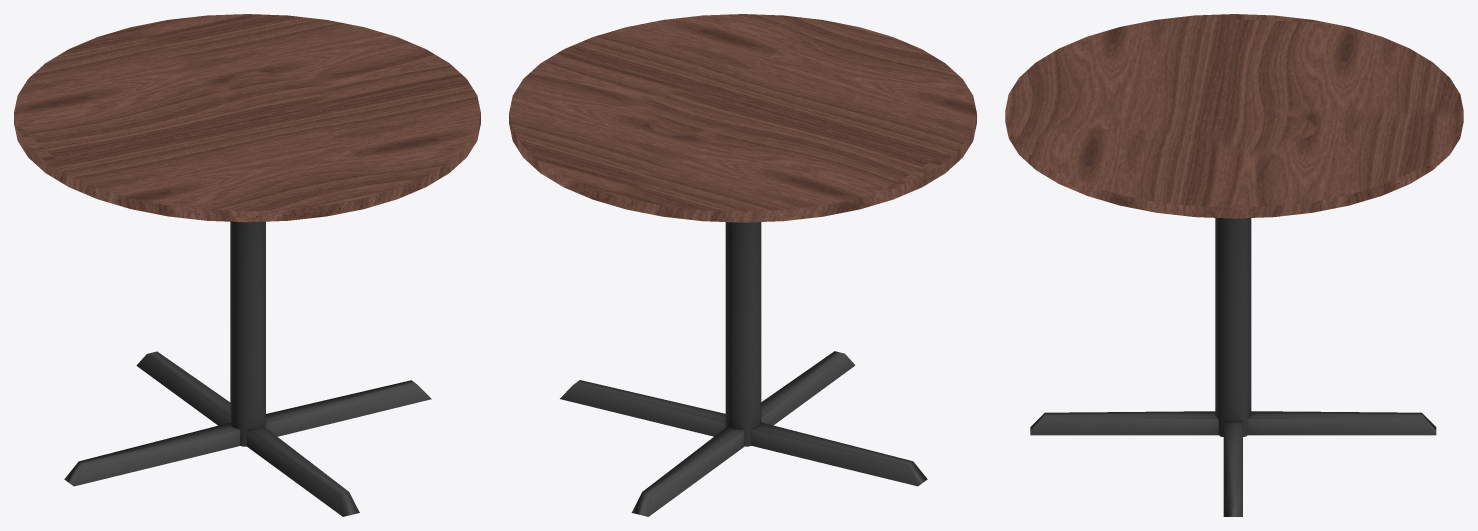
The model's file is Office_TableRound_1.fbx.
3 views of the same model, side by side, from view 1: azimuth 30°, elevation 25°; view 2: azimuth 150°, elevation 25°; view 3: azimuth 270°, elevation 25° (orthographic). The views are drawn at different scales.
Visible parts, largest first — view 1: Office_TableRound_1; view 2: Office_TableRound_1; view 3: Office_TableRound_1.
Boxes of the visible parts, x1,y1,x2,y2 form: Office_TableRound_1: (14,14,480,516); Office_TableRound_1: (509,14,976,516); Office_TableRound_1: (1005,14,1463,516).
Size of the model in its own units: 98.09 by 75.61 by 98.09.
